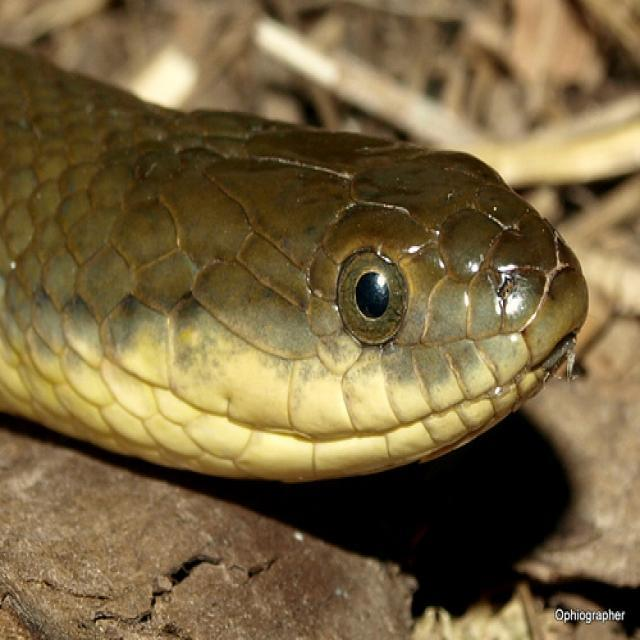Snake: (0, 37, 589, 484)
